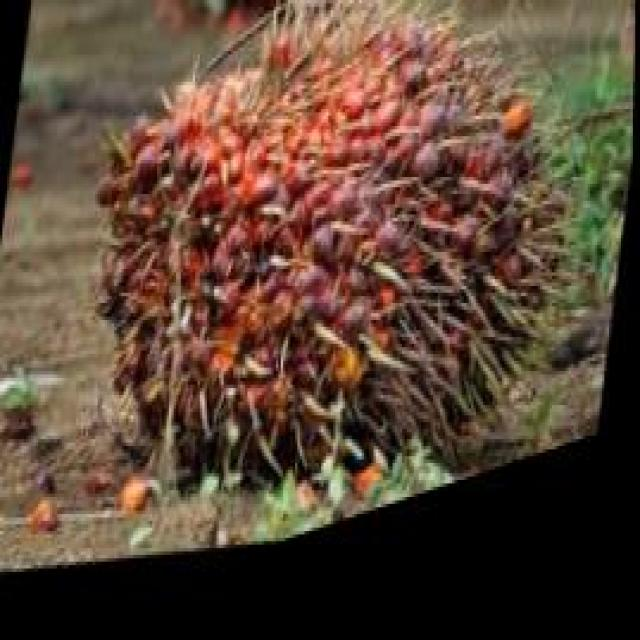Ripefruit: (59, 0, 610, 623)
